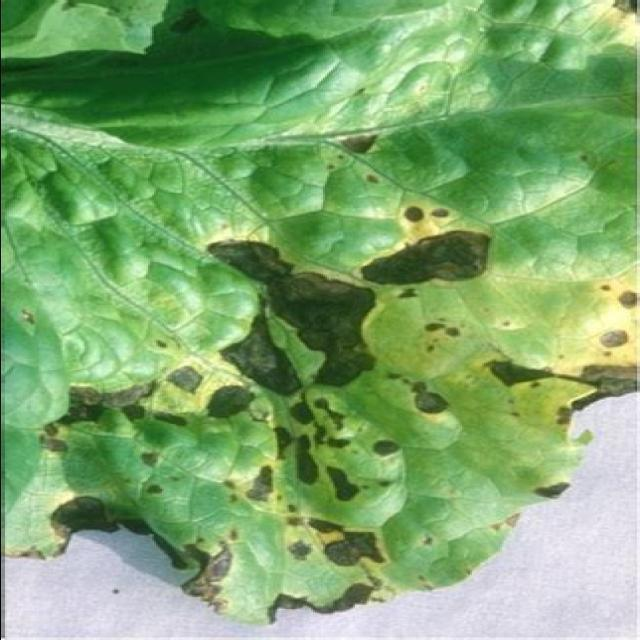Bacterial: (58, 480, 375, 605), (220, 223, 368, 402), (266, 368, 436, 510), (362, 182, 532, 318), (55, 355, 297, 443), (463, 322, 615, 452)
